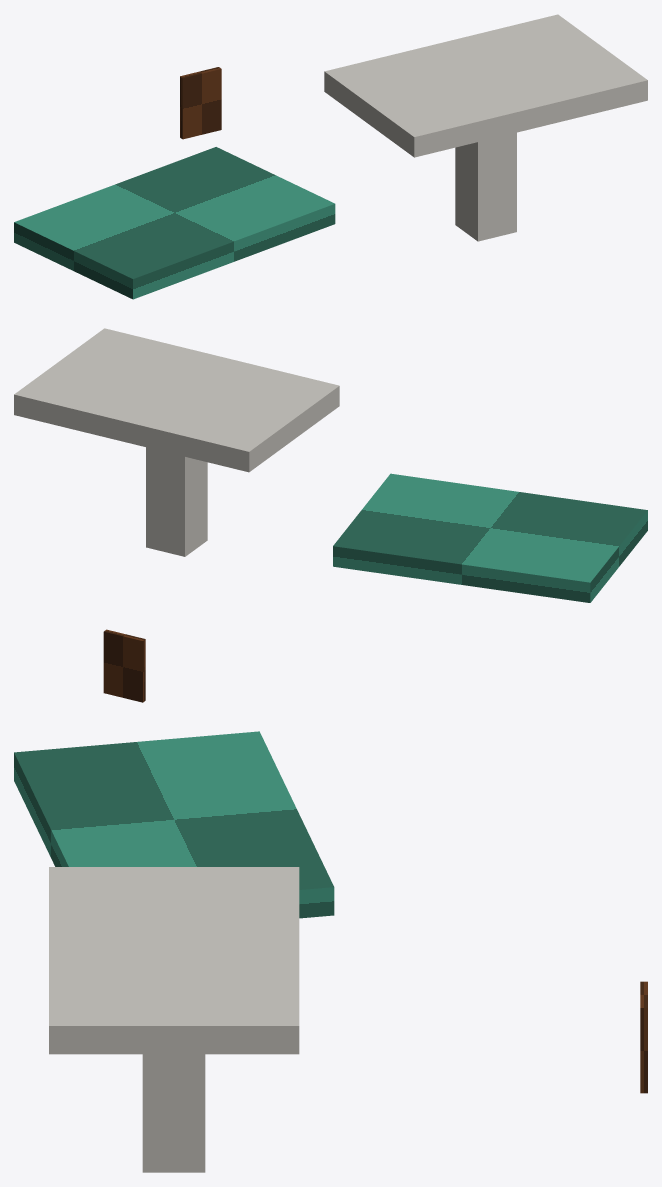
File: world.glb
3 renders of one model, top to bottom at view 1: azimuth 30°, elevation 25°; view 2: azimuth 150°, elevation 25°; view 3: azimuth 270°, elevation 25°, orthographic. The views are drawn at different scales.
Visible parts, largest first — view 1: Overhang, Bridge, Support, Door; view 2: Overhang, Bridge, Support, Door; view 3: Overhang, Bridge, Support, Door.
Boxes of the visible parts, box(x1,y1,x2,y2) form: Overhang: box(324, 14, 647, 157); Bridge: box(14, 147, 335, 299); Support: box(455, 132, 516, 241); Door: box(180, 67, 221, 139); Overhang: box(14, 328, 339, 472); Bridge: box(333, 473, 647, 602); Support: box(146, 447, 207, 556); Door: box(103, 629, 145, 702); Overhang: box(49, 867, 299, 1054); Bridge: box(14, 731, 334, 918); Support: box(142, 1054, 205, 1172); Door: box(640, 981, 647, 1093).
Size of what is drawn, in the model's own units: 28.68 by 7.5 by 20.24.
Materials: 3 (2 with a texture image).
